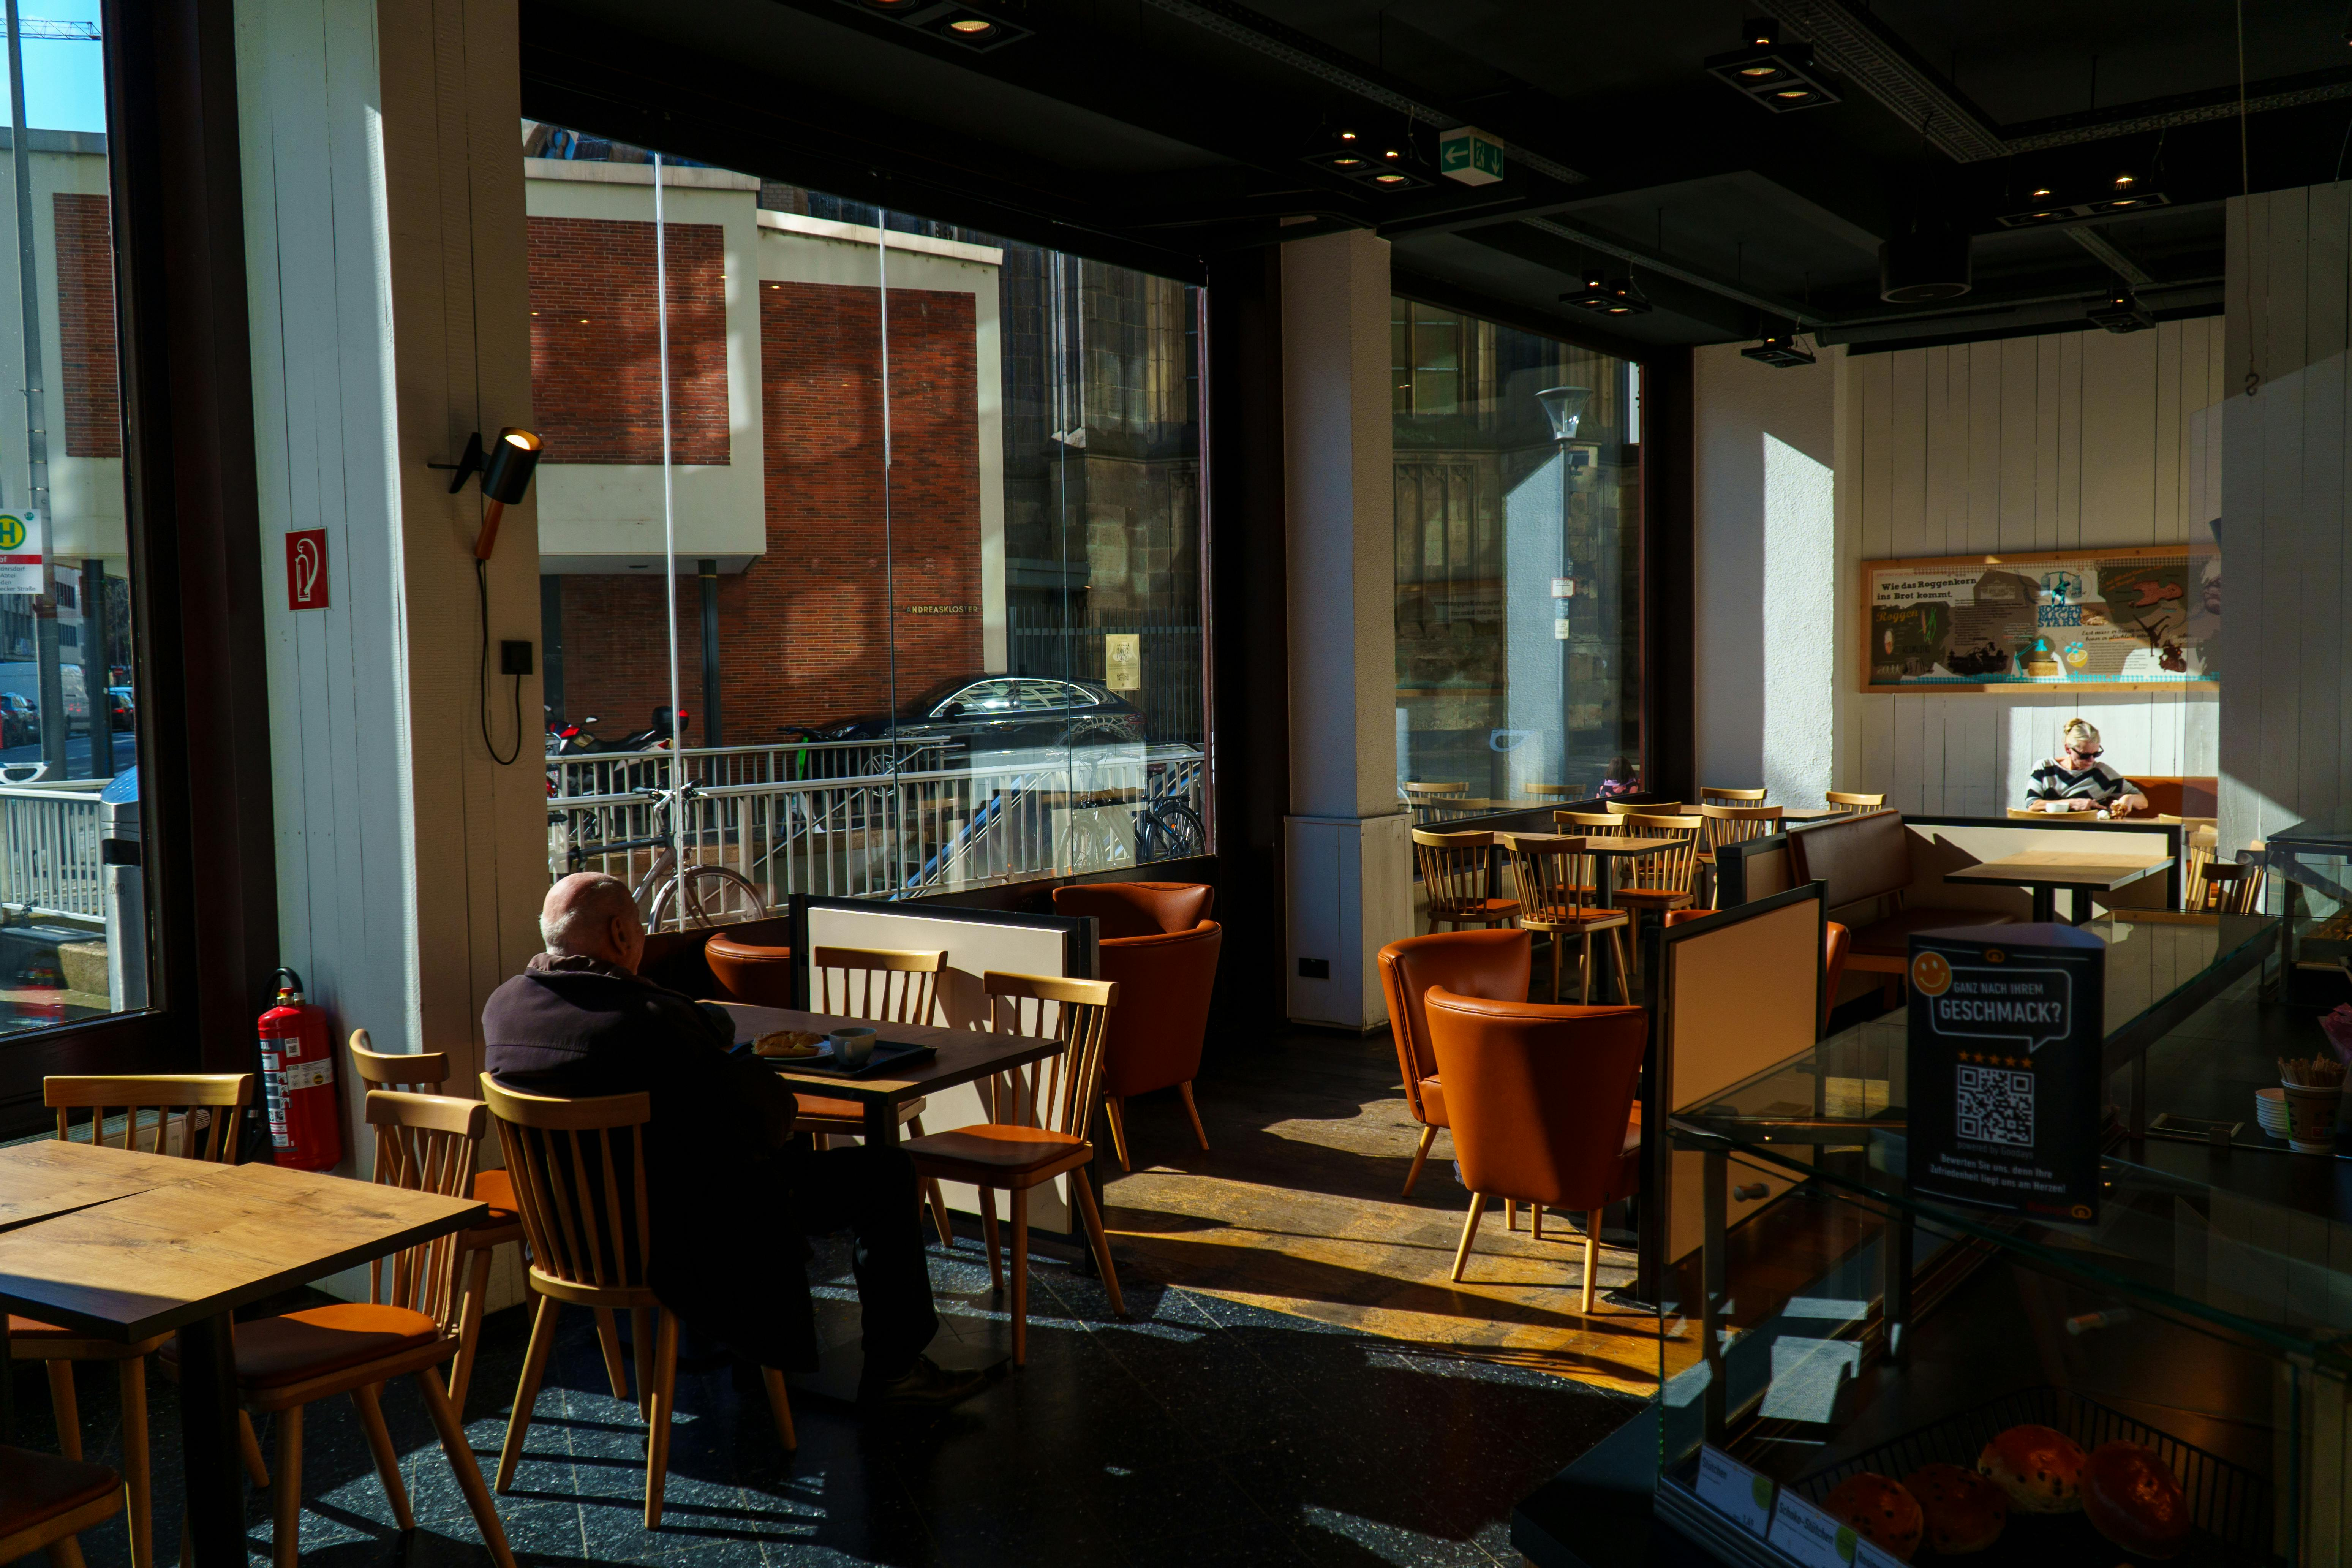extintor: (241, 950, 353, 1181)
